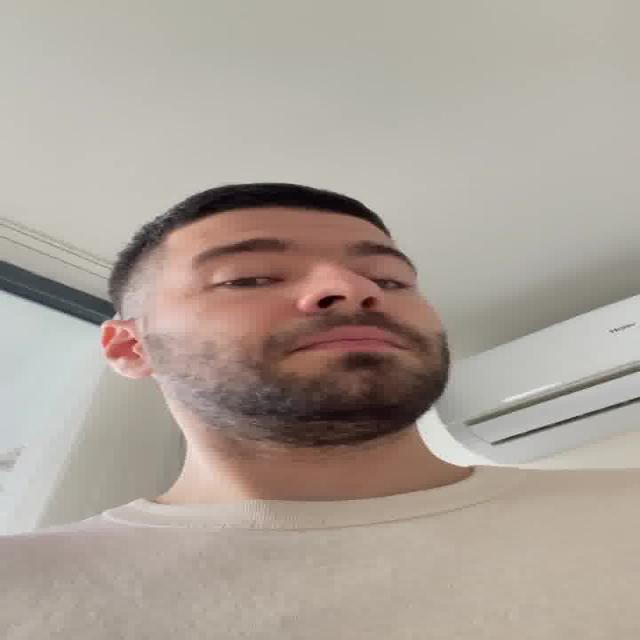earlobe: (113, 360, 151, 380)
eye: (206, 274, 289, 288), (362, 274, 414, 292)
nose: (305, 301, 393, 329)
wholeear: (97, 320, 149, 380)
